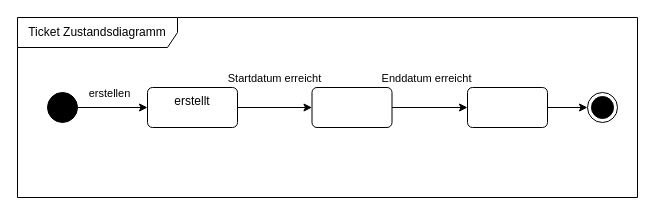
Some shapes in this 655 by 215 pixel diagram are drawn without their labels. The shapes that lost their labels are listed below. From the top down, each one's box as (x1, y1, x2, y2) in pixels, then its label:
(311, 86, 392, 128): gültig
(466, 86, 548, 128): abgelaufen
